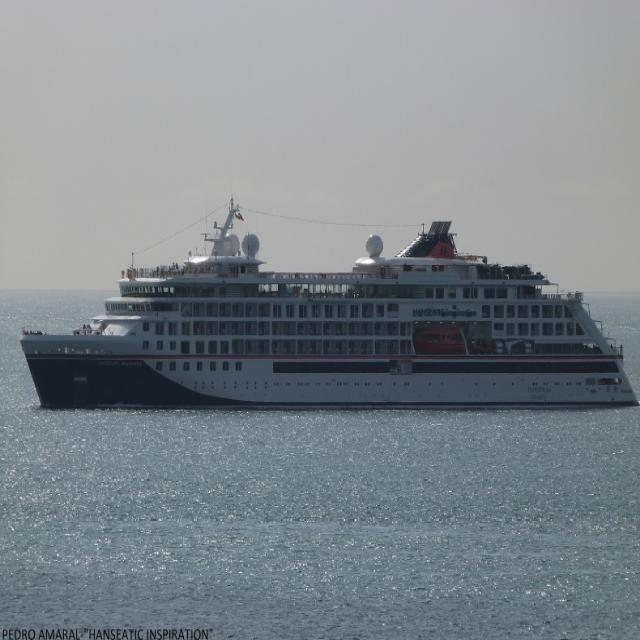cruises: (18, 192, 640, 416)
